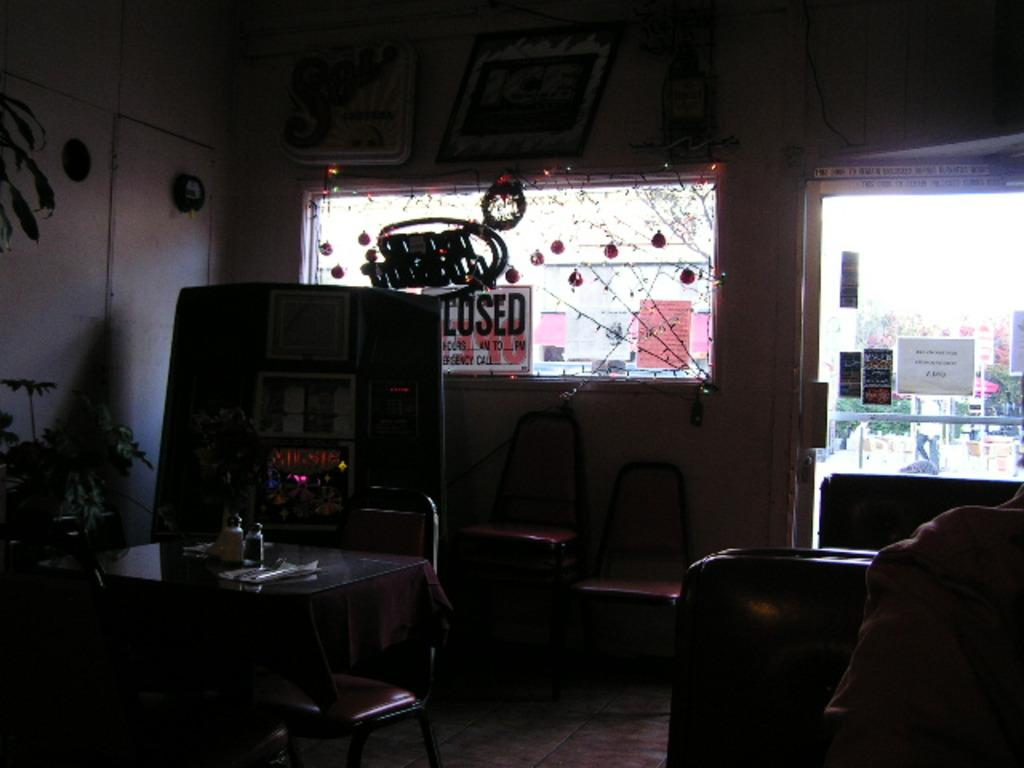Chair: (659, 474, 1022, 766), (275, 486, 440, 766), (448, 406, 590, 656), (576, 456, 699, 706)
